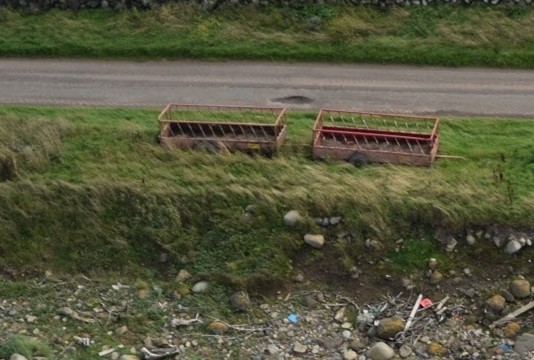cuboid: (307, 102, 449, 178), (149, 91, 296, 161)
straight_bar: (494, 299, 534, 327), (400, 289, 424, 334)
white_in_green: (408, 284, 446, 320), (272, 298, 310, 334)
